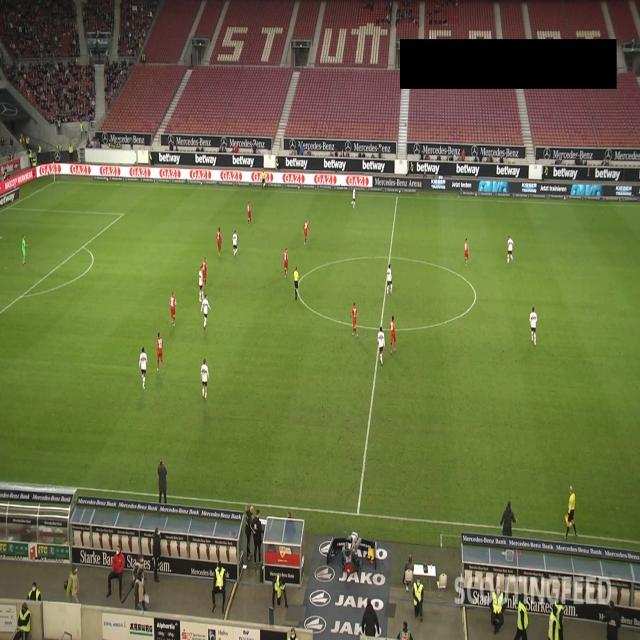ball: (506, 258, 510, 264)
